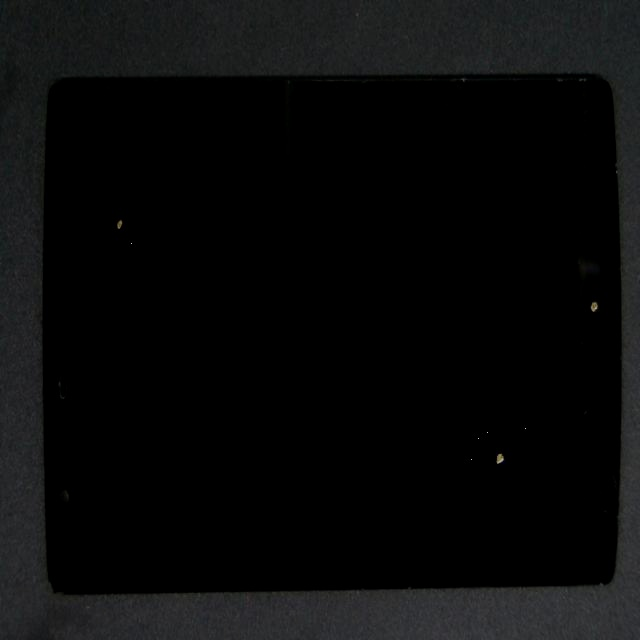stain: (232, 243, 640, 640), (303, 89, 640, 428), (44, 123, 161, 369)
